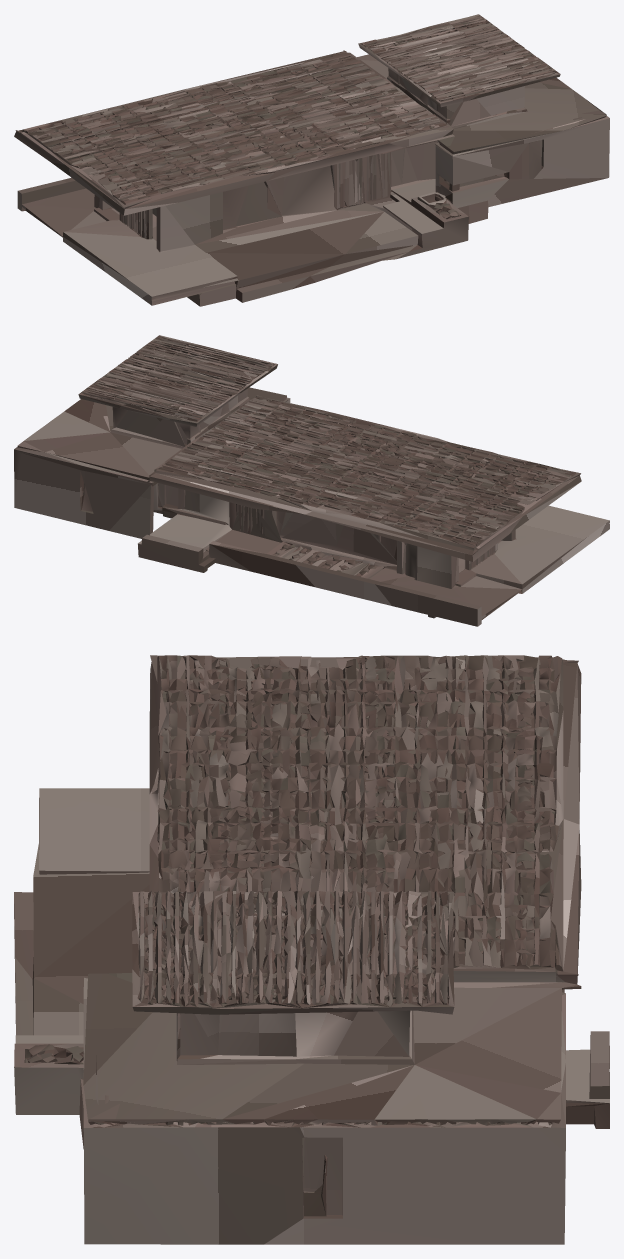
The model's file is manor.glb.
3 views of the same model, one above another, from view 1: azimuth 30°, elevation 25°; view 2: azimuth 150°, elevation 25°; view 3: azimuth 270°, elevation 25° (orthographic). The views are drawn at different scales.
Size of the model in its own units: 1.9 by 0.4765 by 1.06.
1 material, 1 textured.
